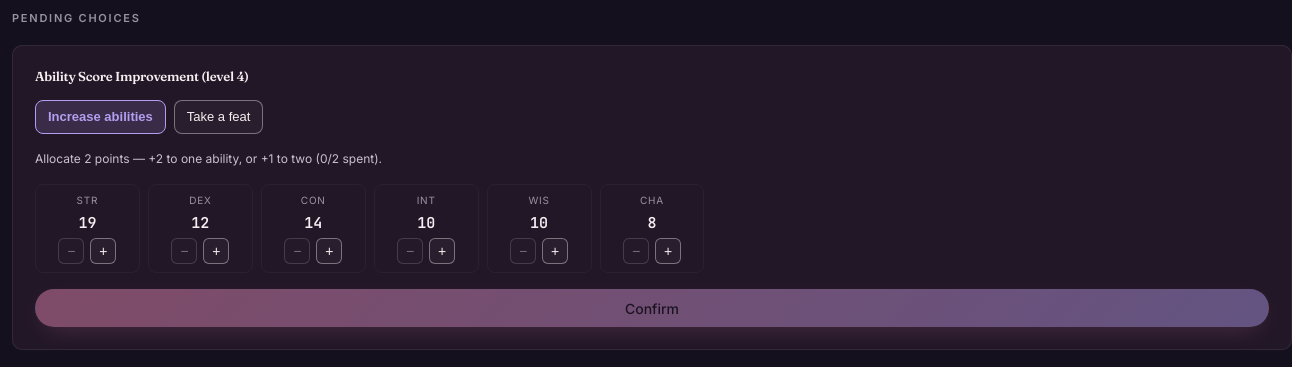
Test: LevelChoicePicker — ASI choice: ability increase › disables "+" after the FIRST point once a second would exceed the cap (19 -> 20 ok, -> 21 not)
The image size is (1292, 367).
Click the button named "increase strength allocation" at (104, 251), box [90,238,116,264]
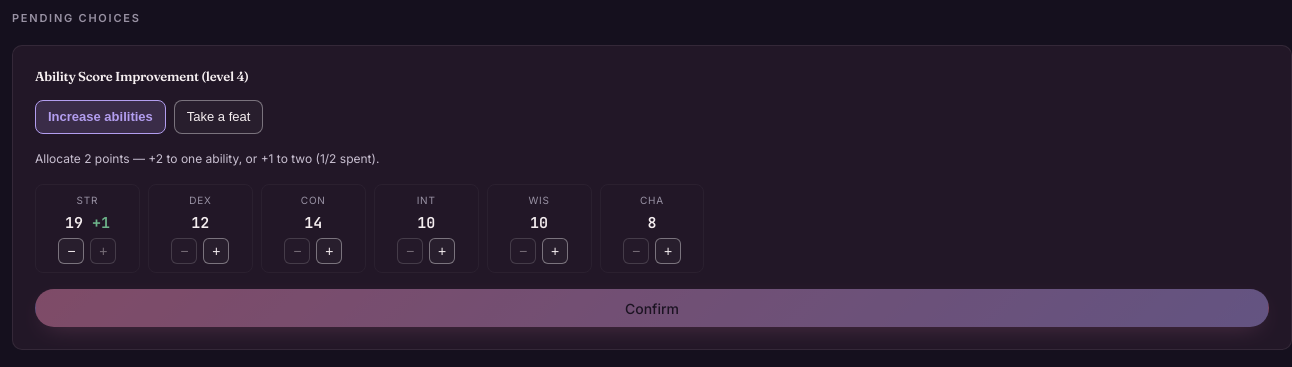
Expected: the button named "increase strength allocation" is disabled, [90,238,116,264]
